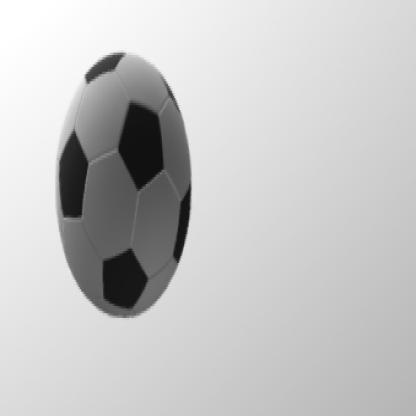ball: (56, 50, 193, 320)
